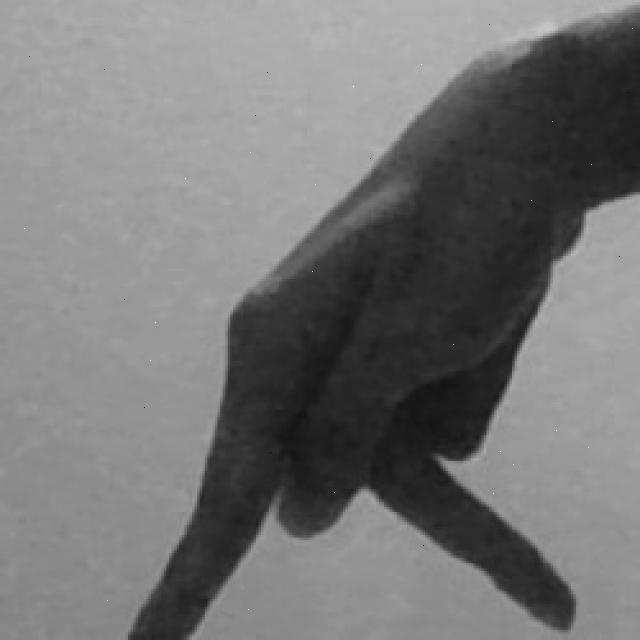P: (118, 1, 640, 640)
